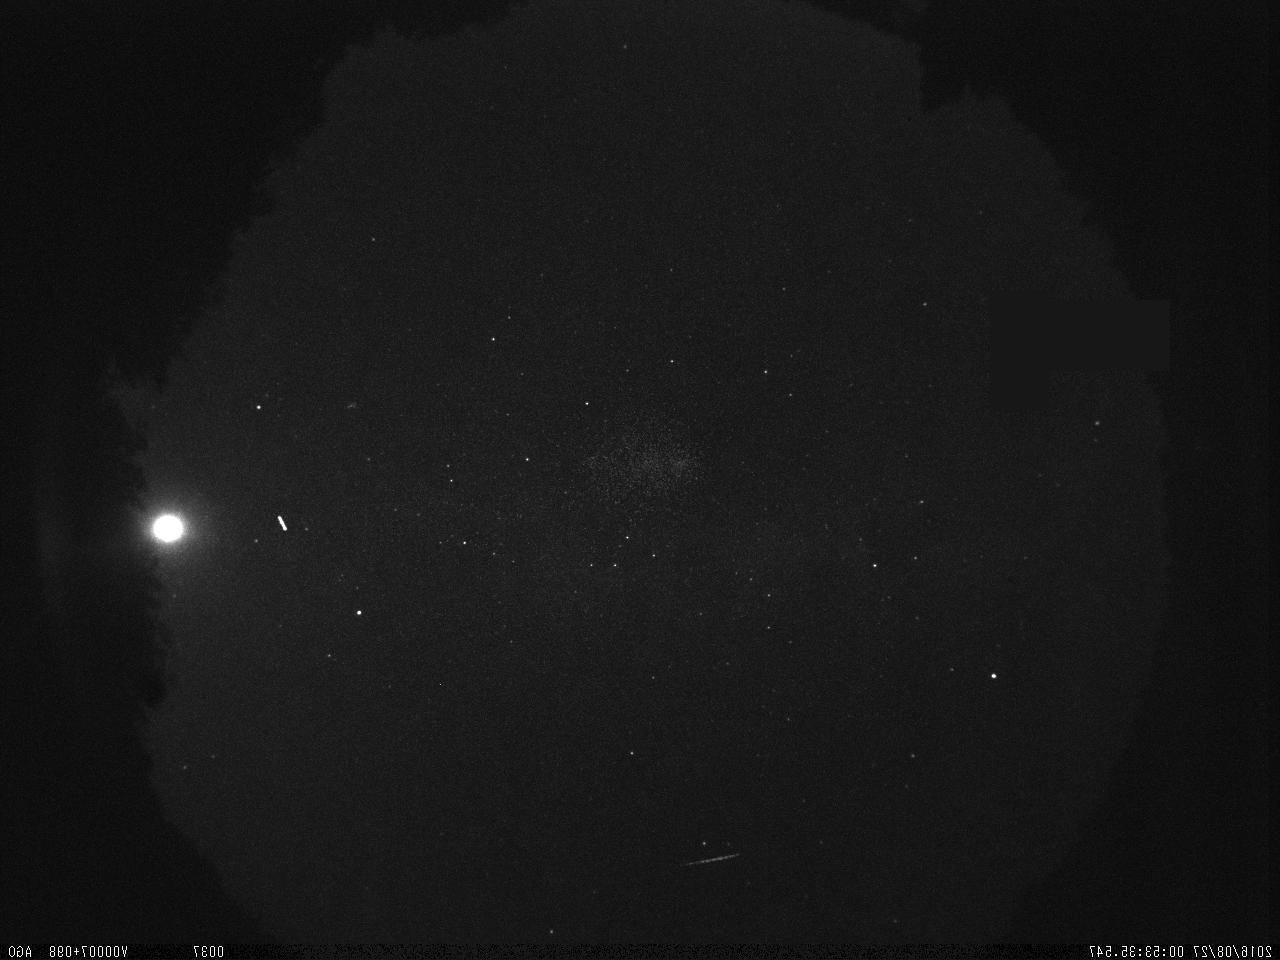meteor: (665, 836, 760, 894)
